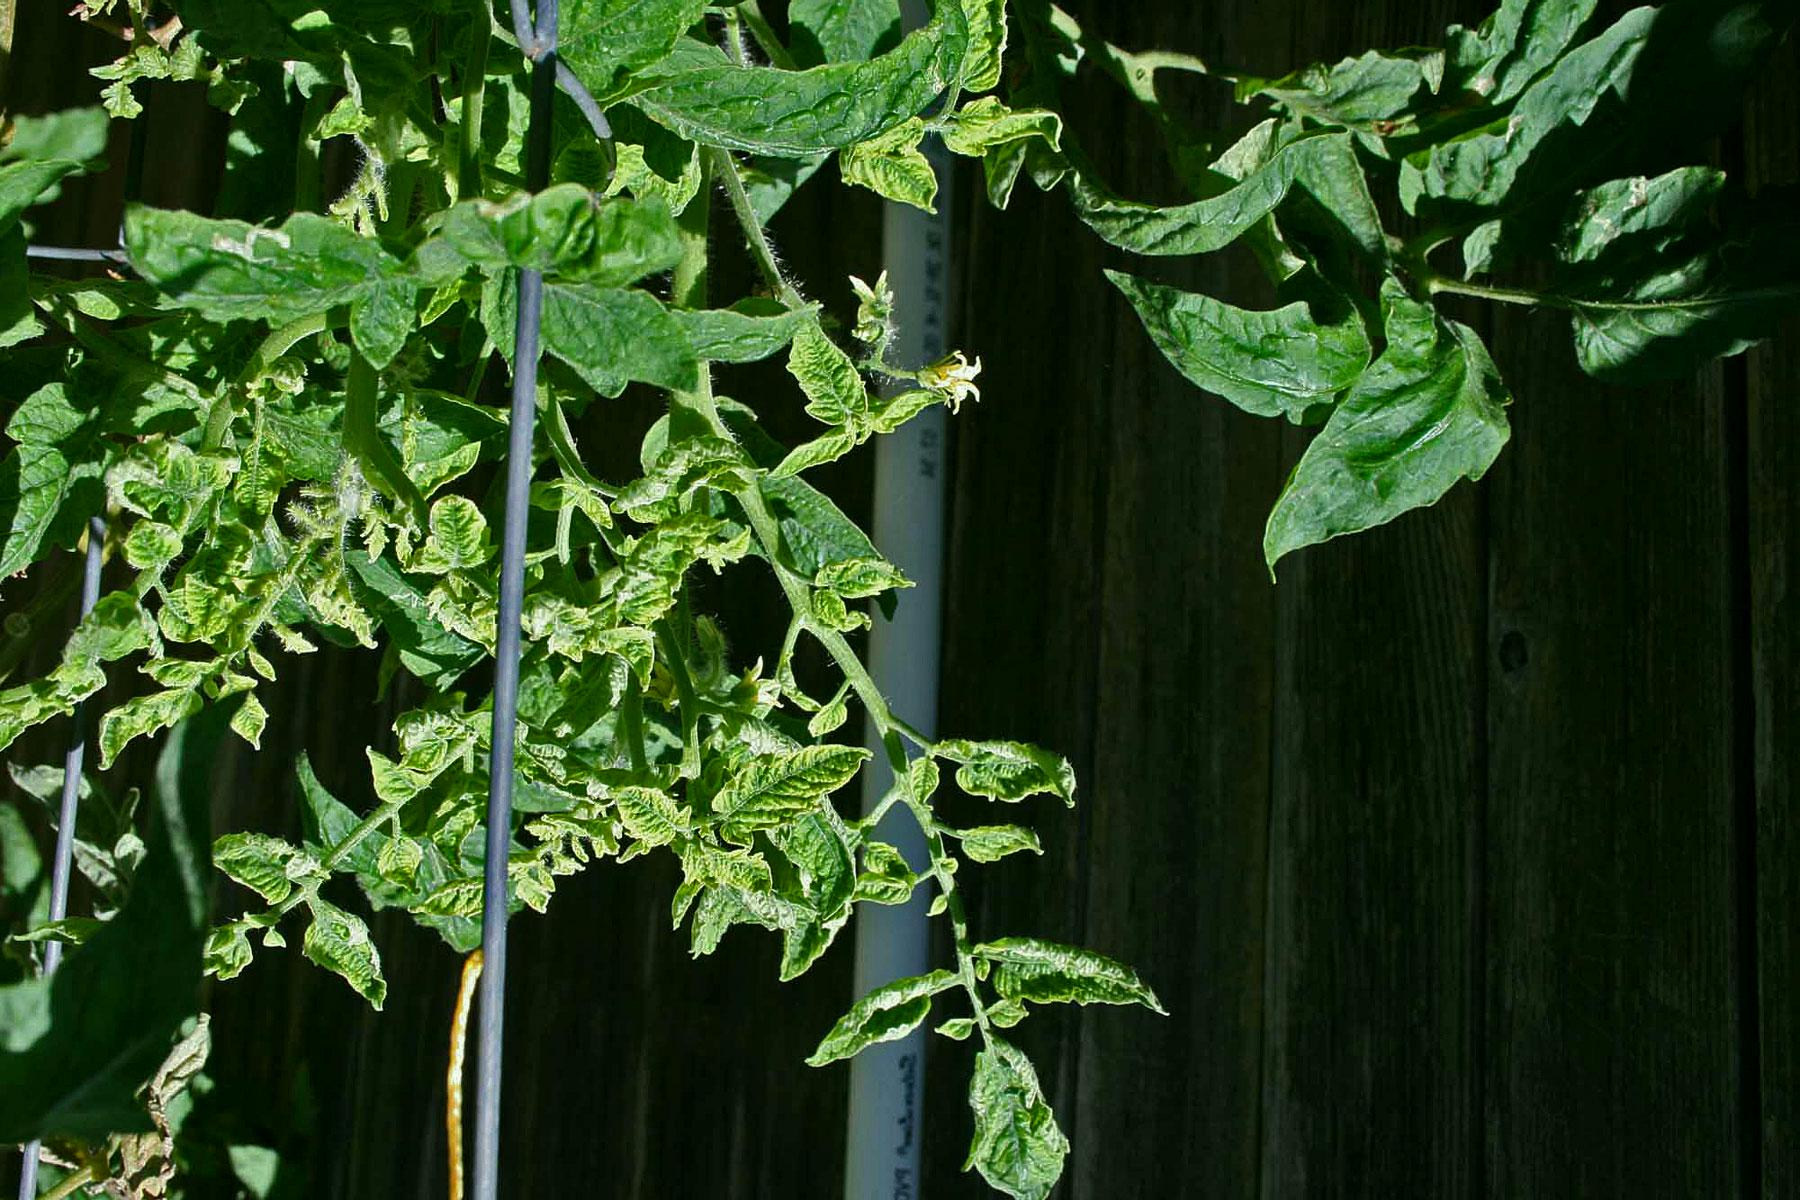Tomato leaf yellow virus: (98, 192, 429, 358), (483, 262, 717, 406), (567, 514, 723, 684), (962, 917, 1195, 1027), (916, 717, 1114, 816), (692, 731, 868, 840), (954, 1041, 1067, 1199), (766, 315, 897, 447), (92, 671, 210, 792), (301, 897, 400, 1017), (111, 438, 246, 521), (808, 550, 939, 628), (596, 767, 704, 858), (671, 833, 789, 911), (408, 483, 497, 580), (153, 575, 256, 654), (208, 822, 305, 901), (950, 816, 1062, 875), (121, 509, 197, 571)
